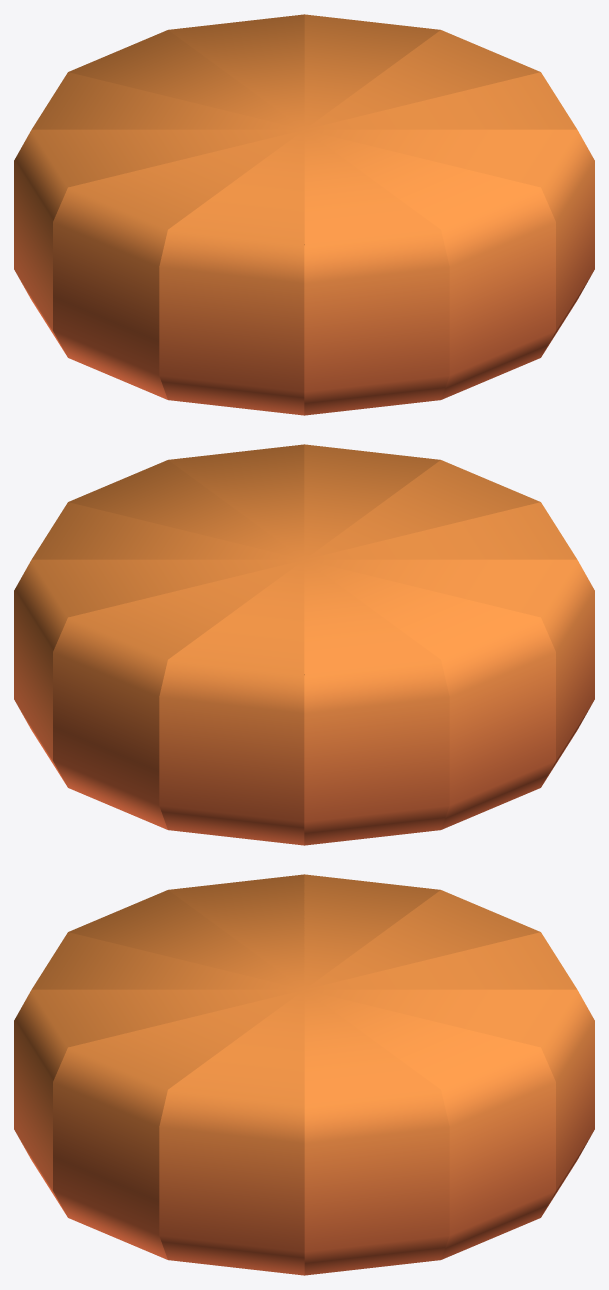
The model's file is cheese.glb.
3 renders of one model, top to bottom at view 1: azimuth 30°, elevation 25°; view 2: azimuth 150°, elevation 25°; view 3: azimuth 270°, elevation 25°, orthographic.
Visible parts, largest first — view 1: wedge.012, wedge.023, wedge.015, wedge.022, wedge.016, wedge.018, wedge.017, wedge.020, wedge.019, wedge.021, wedge.013, wedge.014; view 2: wedge.014, wedge.020, wedge.018, wedge.019, wedge.021, wedge.022, wedge.012, wedge.013, wedge.015, wedge.016, wedge.017, wedge.023; view 3: wedge.013, wedge.017, wedge.016, wedge.021, wedge.015, wedge.019, wedge.014, wedge.023, wedge.018, wedge.022, wedge.012, wedge.020.
Part boxes in pixels (bbox=[...]): wedge.012: bbox=[304, 130, 449, 415]; wedge.023: bbox=[159, 130, 304, 415]; wedge.015: bbox=[305, 130, 555, 399]; wedge.022: bbox=[53, 130, 303, 399]; wedge.016: bbox=[305, 129, 594, 355]; wedge.018: bbox=[14, 129, 303, 355]; wedge.017: bbox=[305, 30, 540, 129]; wedge.020: bbox=[68, 30, 303, 129]; wedge.019: bbox=[168, 14, 304, 129]; wedge.021: bbox=[304, 14, 440, 129]; wedge.013: bbox=[306, 72, 576, 129]; wedge.014: bbox=[32, 72, 302, 129]; wedge.014: bbox=[304, 560, 449, 845]; wedge.020: bbox=[159, 560, 304, 845]; wedge.018: bbox=[305, 560, 555, 829]; wedge.019: bbox=[53, 560, 303, 829]; wedge.021: bbox=[14, 559, 303, 785]; wedge.022: bbox=[305, 559, 594, 785]; wedge.012: bbox=[305, 460, 540, 559]; wedge.013: bbox=[68, 460, 303, 559]; wedge.015: bbox=[304, 444, 440, 559]; wedge.016: bbox=[168, 444, 304, 559]; wedge.017: bbox=[32, 502, 302, 559]; wedge.023: bbox=[306, 502, 576, 559]; wedge.013: bbox=[159, 990, 304, 1275]; wedge.017: bbox=[304, 990, 449, 1275]; wedge.016: bbox=[53, 990, 303, 1259]; wedge.021: bbox=[305, 990, 555, 1259]; wedge.015: bbox=[14, 989, 303, 1215]; wedge.019: bbox=[305, 989, 594, 1215]; wedge.014: bbox=[305, 890, 540, 989]; wedge.023: bbox=[68, 890, 303, 989]; wedge.018: bbox=[304, 874, 440, 989]; wedge.022: bbox=[168, 874, 304, 989]; wedge.012: bbox=[32, 932, 302, 989]; wedge.020: bbox=[306, 932, 576, 989].
Size of the model in its own units: 0.68 by 0.22 by 0.68.
1 material, 1 textured.
